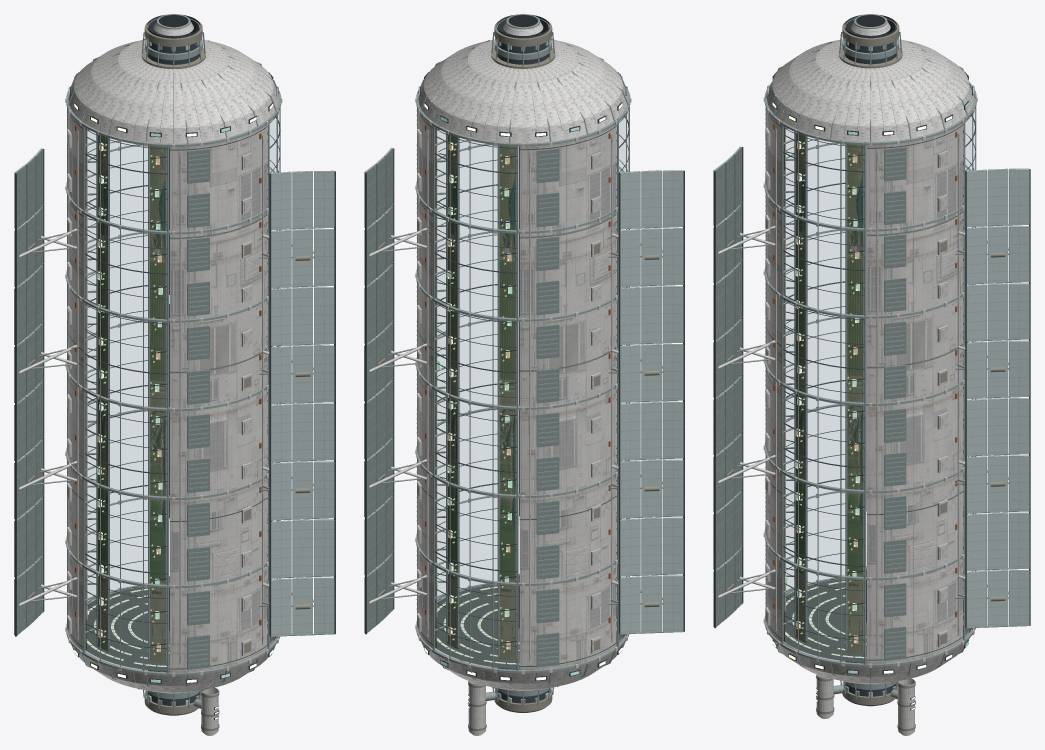
Rendered from AsterReach.fbx.
3 views of the same model, side by side, from view 1: azimuth 30°, elevation 25°; view 2: azimuth 150°, elevation 25°; view 3: azimuth 270°, elevation 25° (orthographic).
Visible parts, largest first — view 1: rotating_habitat, pressure_members, stationary_axle; view 2: rotating_habitat, pressure_members, stationary_axle; view 3: rotating_habitat, pressure_members, stationary_axle.
Part boxes in pixels (x1,y1,x2,y2): rotating_habitat: (14, 39, 334, 693); pressure_members: (14, 39, 335, 694); stationary_axle: (142, 14, 219, 735); rotating_habitat: (364, 39, 683, 690); pressure_members: (364, 39, 684, 691); stationary_axle: (467, 14, 554, 735); rotating_habitat: (713, 39, 1029, 684); pressure_members: (713, 42, 1030, 685); stationary_axle: (815, 14, 915, 735).
Bounding box in the file's own units: 20.66 × 55.06 × 22.66.
24 materials, 7 textured.
